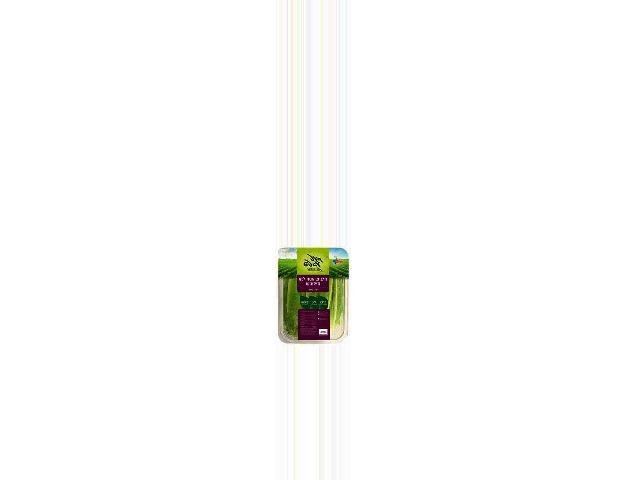lettuce: (277, 254, 350, 344)
